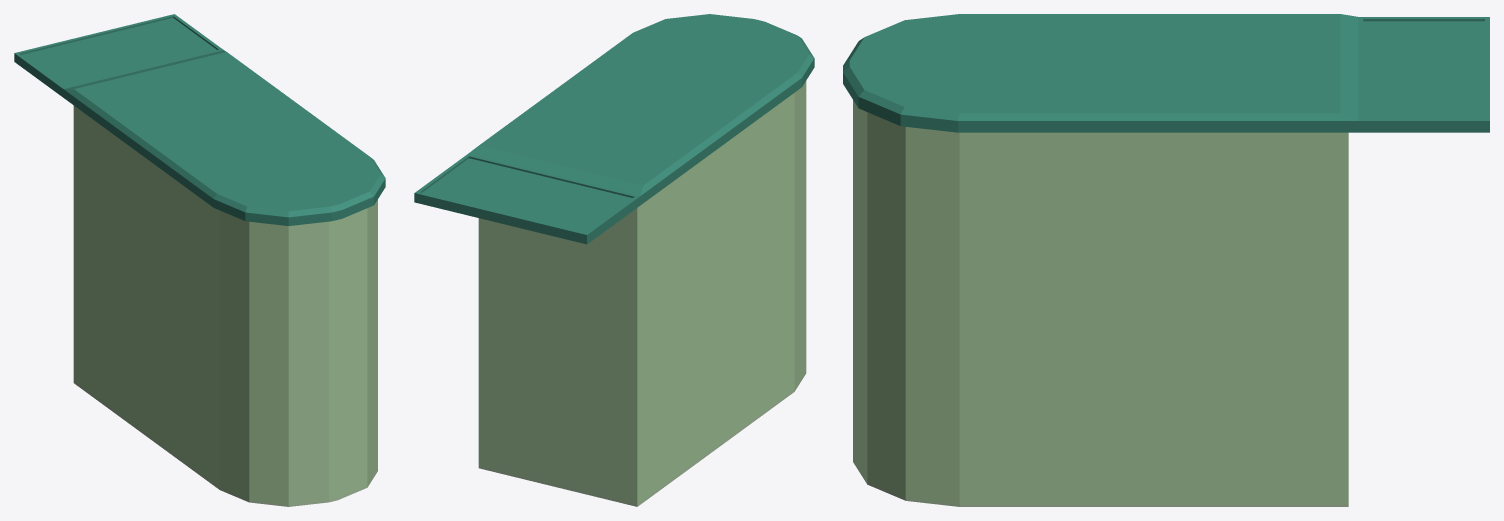
Rendered from iron_press_stand.fbx.
3 renders of one model, left to right at view 1: azimuth 30°, elevation 25°; view 2: azimuth 150°, elevation 25°; view 3: azimuth 270°, elevation 25°, orthographic. The views are drawn at different scales.
Visible parts, largest first — view 1: iron_press_stand; view 2: iron_press_stand; view 3: iron_press_stand.
Boxes of the visible parts, <box> form: iron_press_stand: <box>14,14,385,506</box>; iron_press_stand: <box>414,14,814,506</box>; iron_press_stand: <box>843,14,1489,506</box>.
Size of the model in its own units: 270 by 477 by 707.
